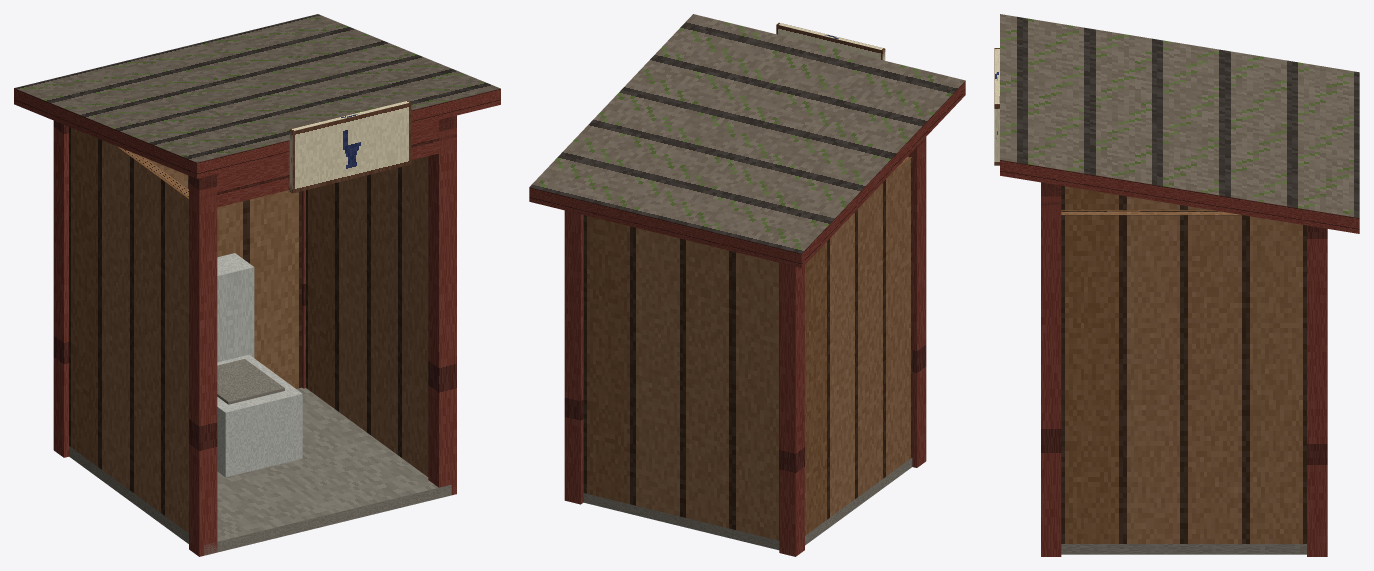
File: toilet_booth.glb
3 renders of one model, left to right at view 1: azimuth 30°, elevation 25°; view 2: azimuth 150°, elevation 25°; view 3: azimuth 270°, elevation 25°, orthographic. The views are drawn at different scales.
Parts seen in each view (by area): view 1: toilet_booth; view 2: toilet_booth; view 3: toilet_booth.
Boxes of the visible parts, x1,y1,x2,y2 form: toilet_booth: (14, 14, 500, 556); toilet_booth: (529, 14, 965, 556); toilet_booth: (994, 14, 1359, 556).
Size of the model in its own units: 236 by 316 by 250.
1 material, 1 textured.
